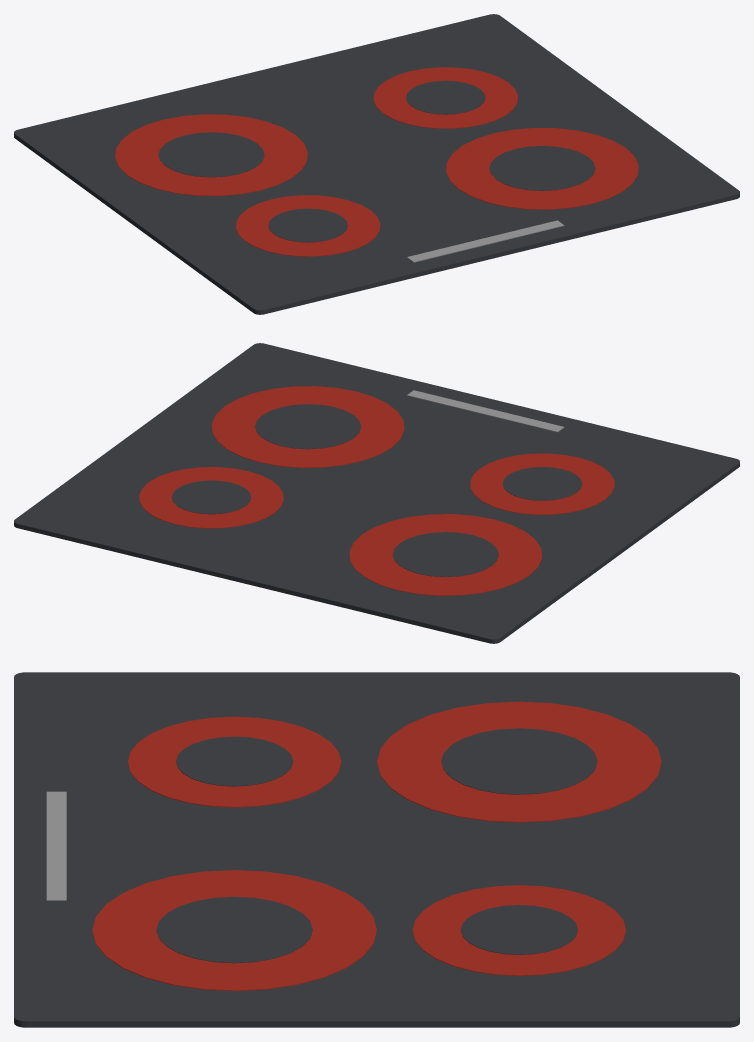
Rendered from a_hob_el4_4.glb.
3 views of the same model, one above another, from view 1: azimuth 30°, elevation 25°; view 2: azimuth 150°, elevation 25°; view 3: azimuth 270°, elevation 25° (orthographic). The views are drawn at different scales.
Visible parts, largest first — view 1: o, o.007, o.001, o.003, o.005, o.002, o.008, o.004, o.006, o.009; view 2: o, o.001, o.007, o.003, o.005, o.008, o.002, o.004, o.006, o.009; view 3: o, o.001, o.007, o.003, o.005, o.008, o.002, o.004, o.006, o.009.
Part boxes in pixels (left/top/right/bottom): o: left=14, top=14, right=739, bottom=314; o.007: left=446, top=128, right=638, bottom=209; o.001: left=115, top=114, right=307, bottom=196; o.003: left=373, top=67, right=517, bottom=128; o.005: left=236, top=195, right=380, bottom=256; o.002: left=158, top=132, right=264, bottom=177; o.008: left=489, top=146, right=595, bottom=190; o.004: left=406, top=80, right=485, bottom=114; o.006: left=268, top=208, right=347, bottom=242; o.009: left=407, top=220, right=564, bottom=262; o: left=14, top=343, right=739, bottom=643; o.001: left=349, top=514, right=542, bottom=595; o.007: left=211, top=386, right=404, bottom=467; o.003: left=139, top=467, right=283, bottom=528; o.005: left=470, top=453, right=614, bottom=514; o.008: left=255, top=404, right=361, bottom=449; o.002: left=392, top=532, right=498, bottom=577; o.004: left=171, top=480, right=251, bottom=514; o.006: left=502, top=467, right=582, bottom=500; o.009: left=407, top=390, right=564, bottom=432; o: left=14, top=672, right=739, bottom=1027; o.001: left=377, top=701, right=661, bottom=822; o.007: left=92, top=870, right=376, bottom=990; o.003: left=412, top=885, right=625, bottom=975; o.005: left=128, top=716, right=341, bottom=807; o.008: left=156, top=896, right=312, bottom=963; o.002: left=441, top=728, right=597, bottom=794; o.004: left=460, top=905, right=577, bottom=954; o.006: left=176, top=736, right=293, bottom=786; o.009: left=46, top=791, right=66, bottom=900.
Bounding box in the file's own units: 0.58 × 0.0059 × 0.51.
